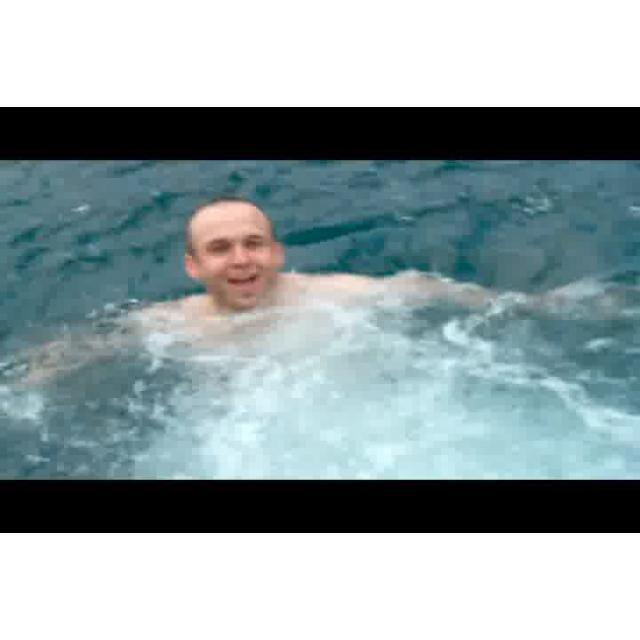human: (151, 188, 334, 338)
